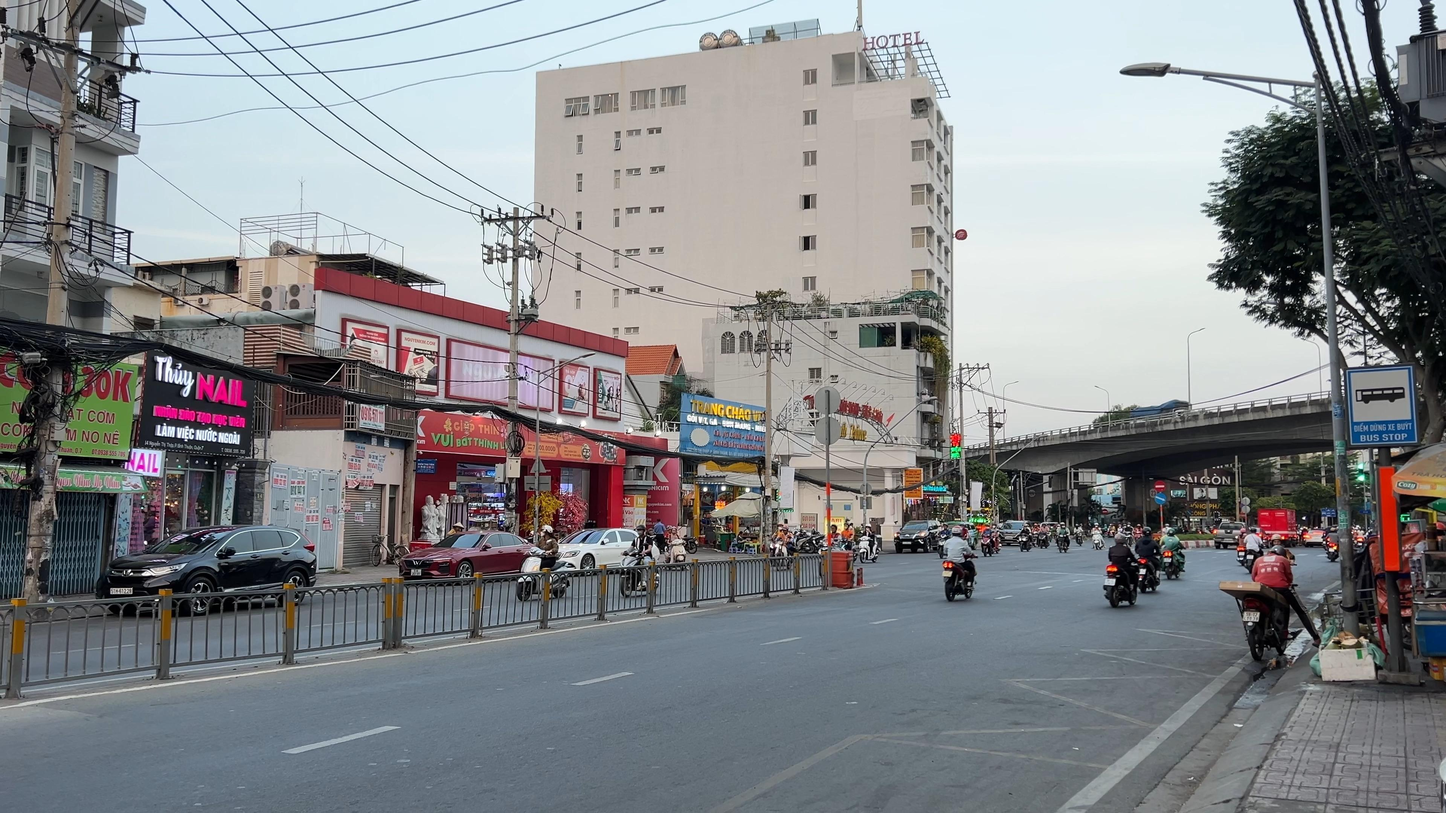driver: (1220, 545, 1321, 661), (517, 525, 570, 602), (618, 525, 660, 598), (1102, 533, 1141, 607), (942, 525, 978, 602), (1135, 527, 1165, 593), (1159, 528, 1186, 580), (663, 525, 688, 571), (1243, 528, 1267, 574), (856, 523, 881, 563), (1235, 528, 1248, 566), (1090, 523, 1106, 550)
helmet: (1270, 545, 1287, 557), (540, 525, 553, 536), (952, 525, 963, 537), (1114, 533, 1126, 544), (1271, 534, 1282, 546), (636, 524, 646, 536), (1142, 527, 1151, 536), (1167, 528, 1176, 537)
